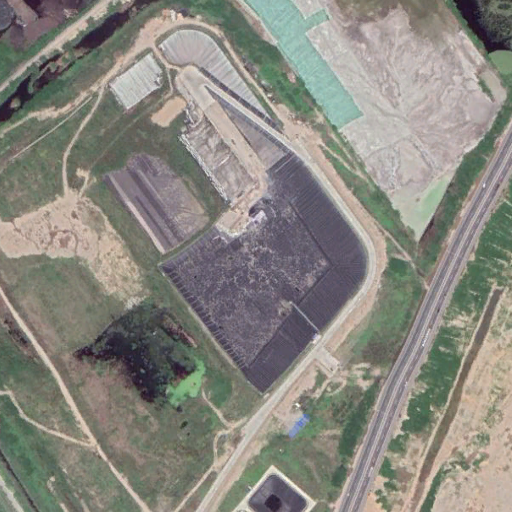lf: (100, 27, 372, 396)
